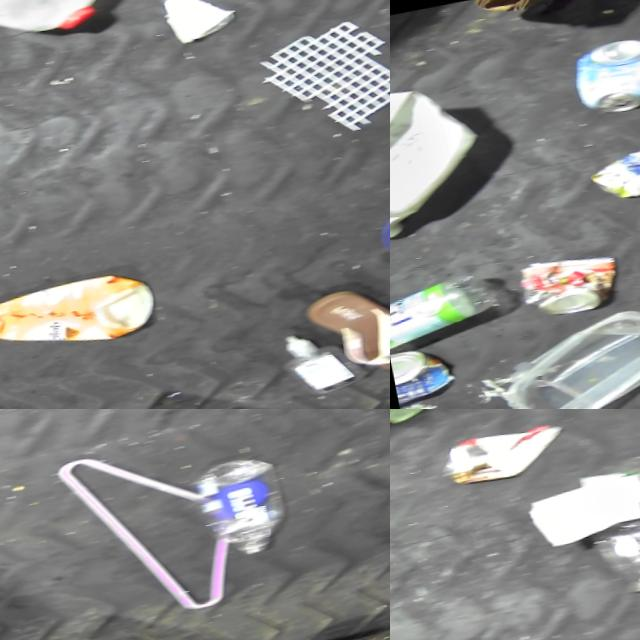can: (435, 420, 569, 491), (511, 248, 621, 325), (566, 34, 640, 123), (390, 341, 454, 407), (584, 138, 640, 206)
milk_jug: (390, 72, 489, 243), (0, 0, 128, 56)
non_white_jug: (0, 266, 158, 369)
plastic_bottle: (185, 455, 289, 567), (572, 441, 640, 611), (390, 270, 504, 354)
